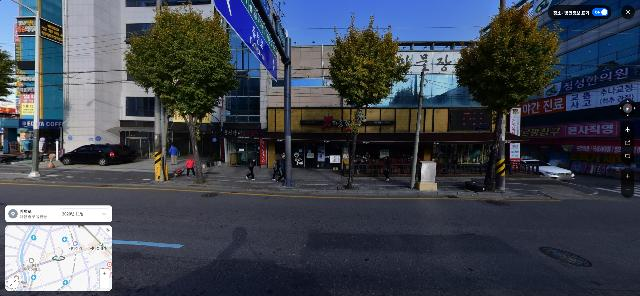other: (124, 2, 241, 184), (454, 0, 560, 191), (328, 1, 412, 190)
